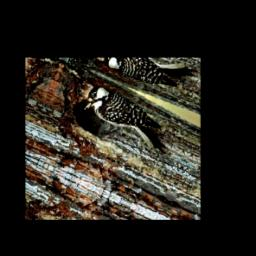Woodpecker: (78, 81, 178, 156)
